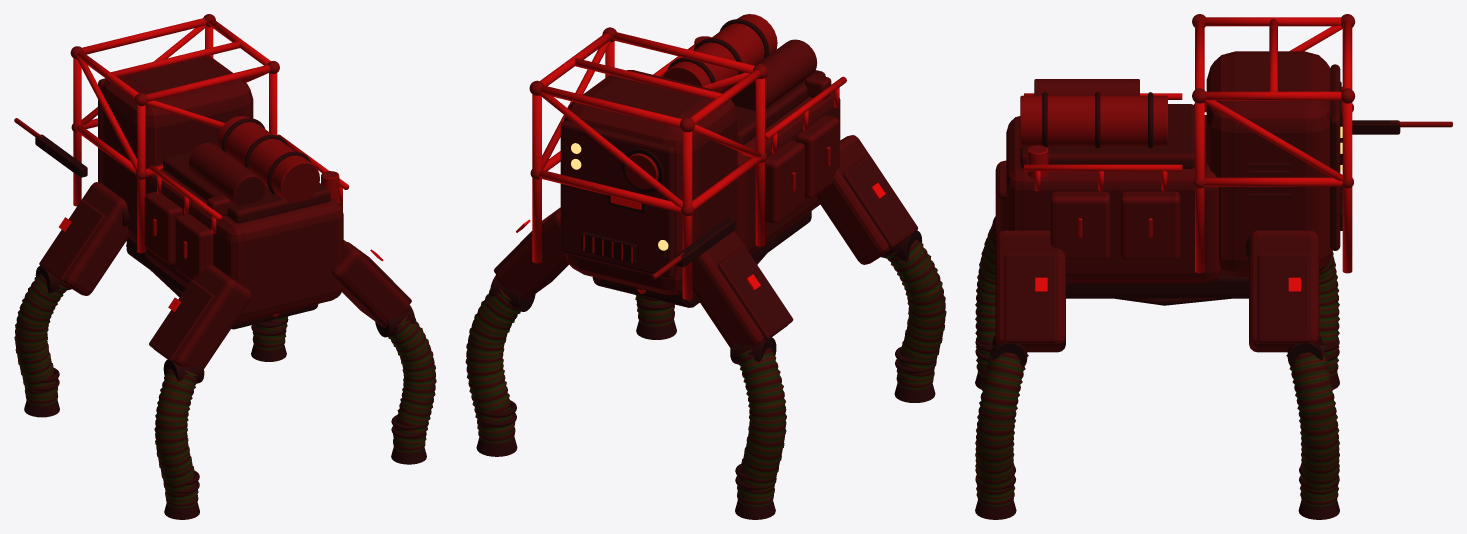
File: mf_lancaster.glb
3 views of the same model, side by side, from view 1: azimuth 30°, elevation 25°; view 2: azimuth 150°, elevation 25°; view 3: azimuth 270°, elevation 25° (orthographic). The views are drawn at different scales.
Parts seen in each view (by area): view 1: hull, cab, shin_rl, tank, shin_rr, shin_fl, thigh_rl, thigh_fl, thigh_rr, tank2, hull_top, thigh_plate_rl (+20 smaller); view 2: cab, cab_face, shin_fl, shin_fr, shin_rl, thigh_fl, thigh_rl, hull, tank, thigh_fr, thigh_plate_fl, thigh_plate_rl (+29 smaller); view 3: cab, hull, tank, shin_fr, shin_rr, thigh_plate_rr, thigh_plate_fr, cabinet0_1, hull_top, cabinet1_1, thigh_fr, thigh_rr (+19 smaller).
Part boxes in pixels (x1,y1,x2,y2): hull: (145,163,343,322); cab: (100,55,253,243); shin_rl: (154,369,198,508); tank: (217,116,319,203); shin_rr: (388,316,436,452); shin_fl: (14,274,67,405); thigh_rl: (154,265,251,368); thigh_fl: (51,182,129,295); thigh_rr: (332,240,409,327); tank2: (189,142,264,206); hull_top: (163,145,330,223); thigh_plate_rl: (149,280,215,361); cab: (563,70,737,295); cab_face: (560,120,676,278); shin_fl: (737,348,786,506); shin_fr: (465,287,520,443); shin_rl: (885,240,946,389); thigh_fl: (692,230,787,347); thigh_rl: (817,135,903,264); hull: (737,91,840,254); tank: (663,14,777,93); thigh_fr: (495,209,568,301); thigh_plate_fl: (717,246,793,340); thigh_plate_rl: (842,155,917,248); cab: (1206,51,1332,276); hull: (1006,115,1221,283); tank: (1020,95,1167,146); shin_fr: (1286,345,1339,506); shin_rr: (975,345,1028,506); thigh_plate_rr: (1004,254,1057,343); thigh_plate_fr: (1257,254,1310,343); cabinet0_1: (1120,191,1180,260); hull_top: (1020,104,1194,168); cabinet1_1: (1050,191,1109,260); thigh_fr: (1249,230,1319,352); thigh_rr: (995,230,1065,352).
Size of the model in its own units: 1.05 by 1.24 by 1.36.
